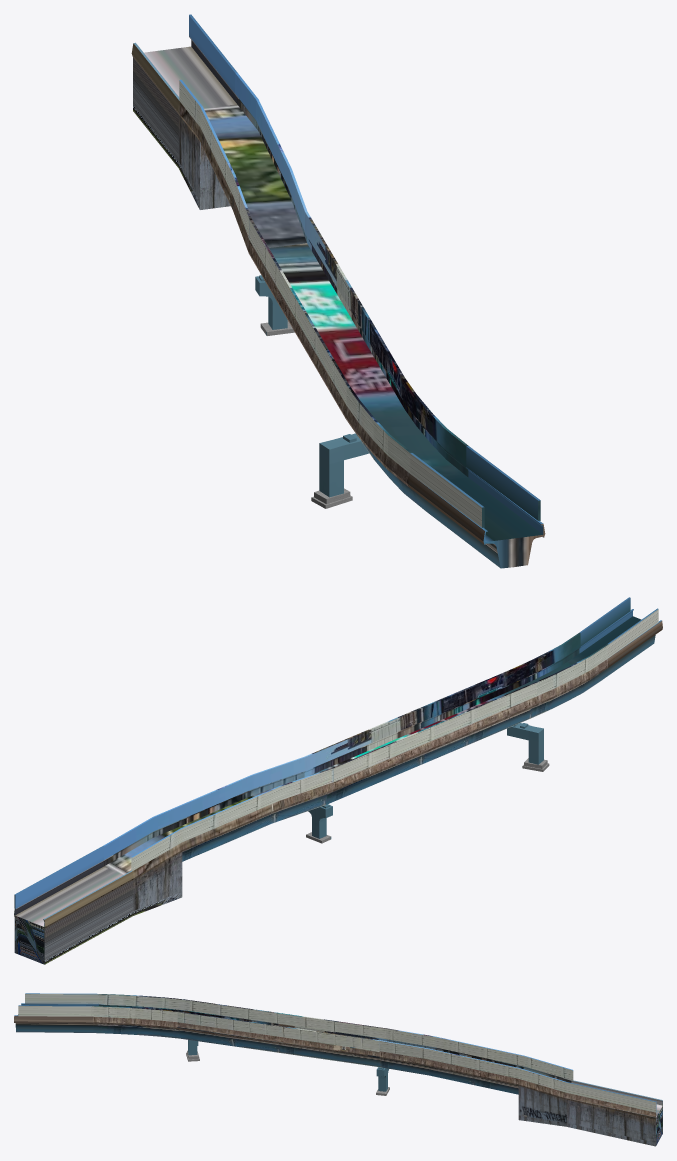
The model's file is highway_1.fbx.
The picture shows the model from 3 angles, top to bottom: view 1: azimuth 30°, elevation 25°; view 2: azimuth 150°, elevation 25°; view 3: azimuth 270°, elevation 25°; orthographic projection. The views are drawn at different scales.
Visible parts, largest first — view 1: highway2, highway2.003, 立方體.016; view 2: highway2, highway2.003, 立方體.016, suport_column_01_020.002; view 3: highway2, highway2.003, suport_column_01_020.002.
Part boxes in pixels (<box>): highway2: <box>131,36,545,568</box>; highway2.003: <box>179,14,540,527</box>; 立方體.016: <box>319,433,369,497</box>; highway2: <box>14,609,662,964</box>; highway2.003: <box>14,597,658,908</box>; 立方體.016: <box>507,723,543,764</box>; suport_column_01_020.002: <box>308,804,332,838</box>; highway2: <box>14,1003,662,1146</box>; highway2.003: <box>18,993,656,1112</box>; suport_column_01_020.002: <box>376,1067,388,1091</box>.
Size of the model in its own units: 2705 by 1053 by 8840.
6 materials, 6 textured.
